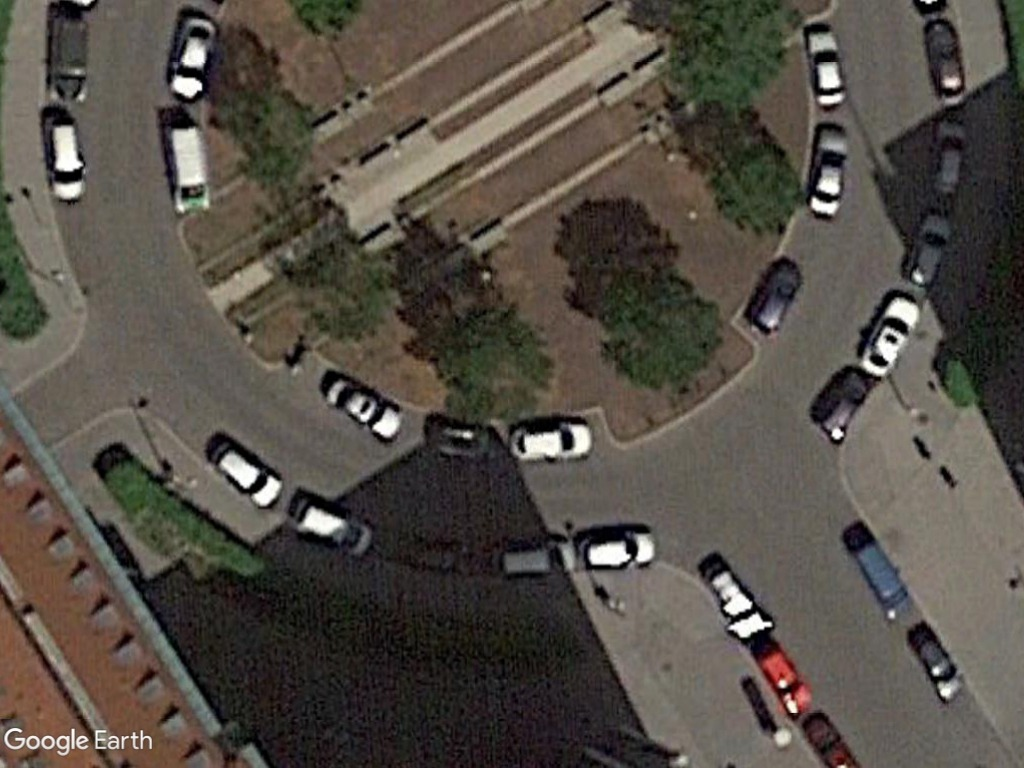car: (150, 111, 218, 217), (317, 372, 411, 447), (849, 289, 923, 381), (204, 437, 288, 514), (162, 8, 220, 107), (287, 494, 377, 557), (745, 253, 807, 341), (569, 521, 657, 581), (504, 414, 595, 472), (37, 114, 92, 207), (919, 17, 973, 111), (484, 533, 580, 585), (802, 126, 855, 220), (897, 208, 957, 288), (923, 111, 974, 202), (800, 20, 849, 113), (909, 628, 964, 708)
